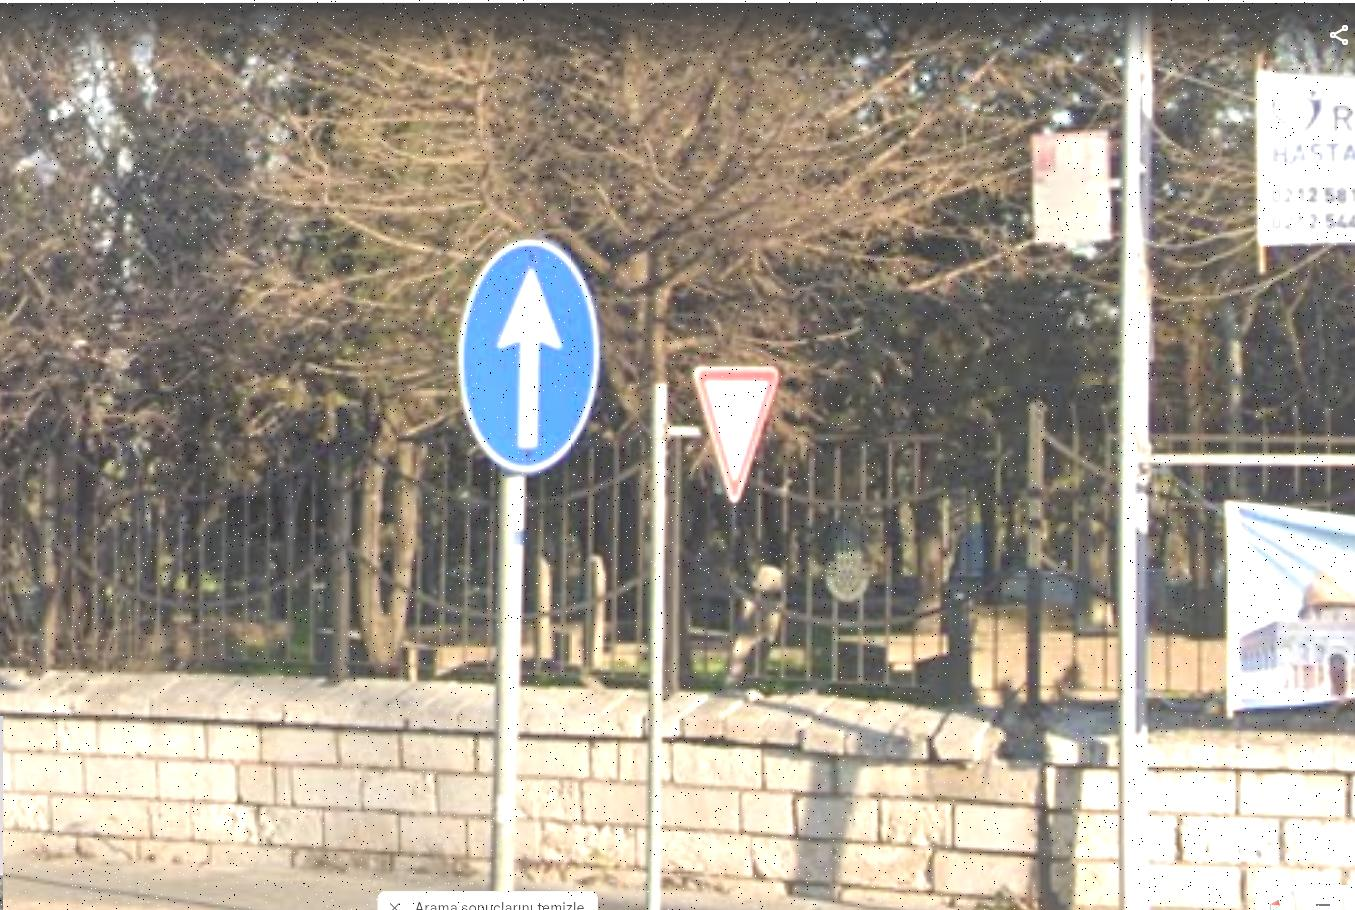forward: (466, 244, 601, 468)
